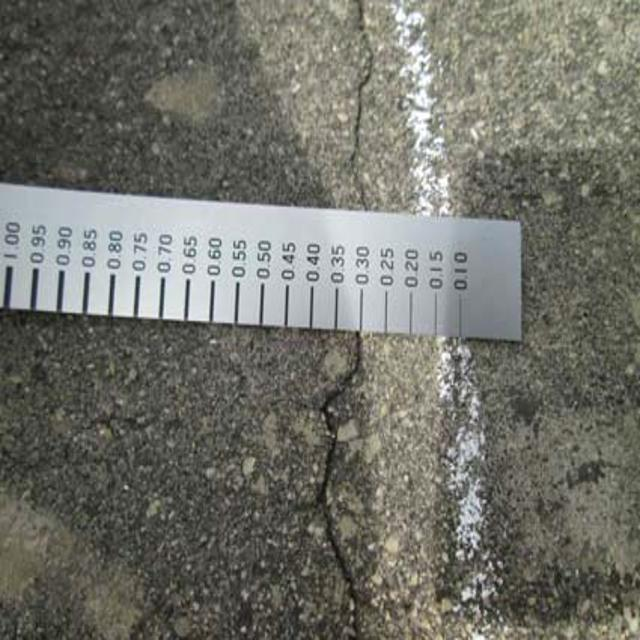crack: (312, 338, 378, 638), (329, 3, 384, 210)
